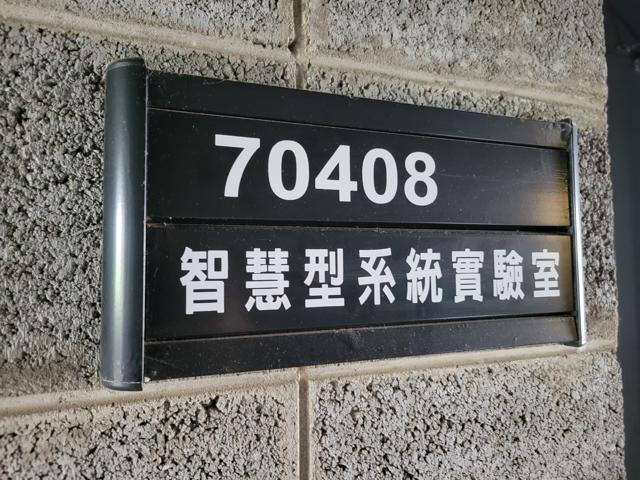doorplate: (97, 50, 594, 395)
